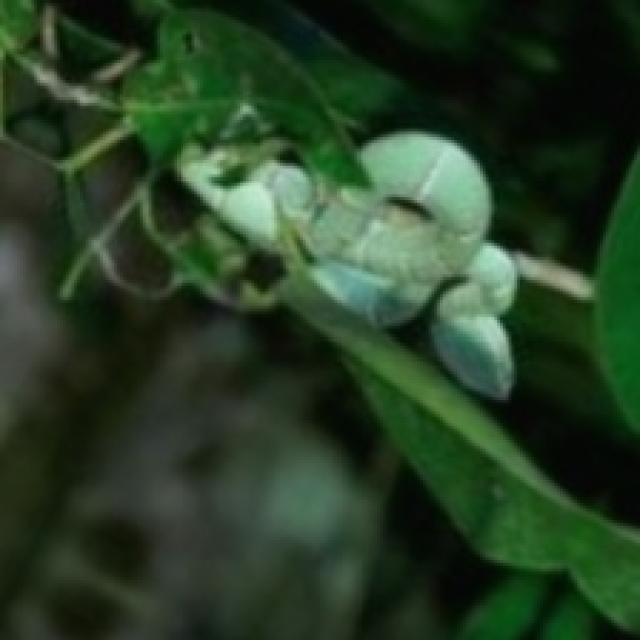north ph temple pitviper: (177, 131, 514, 397)
